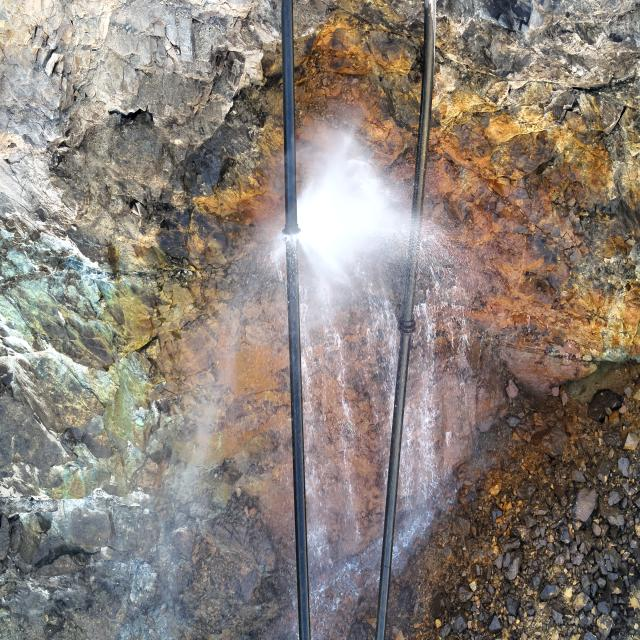leak: (180, 112, 501, 640)
